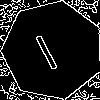I: (27, 25, 61, 72)
